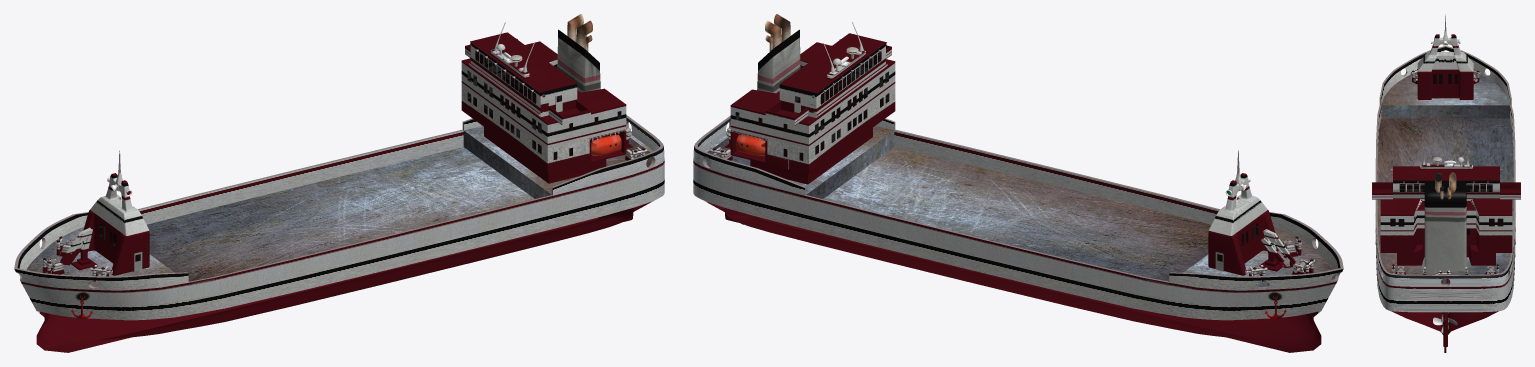
The model's file is cargo-ship.glb.
The picture shows the model from 3 angles, left to right: view 1: azimuth 30°, elevation 25°; view 2: azimuth 150°, elevation 25°; view 3: azimuth 270°, elevation 25°; orthographic projection. The views are drawn at different scales.
Parts seen in each view (by area): view 1: Object_19, Object_7, Object_22, Object_18, Object_16, Object_6, Object_23, Object_20, Object_30, Object_32, Object_8; view 2: Object_19, Object_7, Object_22, Object_18, Object_16, Object_6, Object_23, Object_30, Object_20, Object_32, Object_8; view 3: Object_19, Object_7, Object_22, Object_6, Object_16, Object_5, Object_23, Object_18, Object_30, Object_32, Object_17, Object_20 (+1 smaller).
Part boxes in pixels (left/top/right/bottom): Object_19: left=14, top=32, right=664, bottom=352; Object_7: left=26, top=124, right=653, bottom=287; Object_22: left=21, top=129, right=664, bottom=320; Object_18: left=56, top=71, right=626, bottom=281; Object_16: left=90, top=39, right=626, bottom=235; Object_6: left=557, top=37, right=600, bottom=92; Object_23: left=99, top=70, right=541, bottom=261; Object_20: left=85, top=49, right=545, bottom=275; Object_30: left=468, top=50, right=621, bottom=159; Object_32: left=567, top=14, right=592, bottom=51; Object_8: left=591, top=134, right=621, bottom=156; Object_19: left=693, top=33, right=1343, bottom=352; Object_7: left=705, top=124, right=1333, bottom=287; Object_22: left=693, top=129, right=1336, bottom=320; Object_18: left=730, top=72, right=1301, bottom=281; Object_16: left=730, top=39, right=1267, bottom=235; Object_6: left=757, top=37, right=800, bottom=93; Object_23: left=815, top=71, right=1258, bottom=261; Object_30: left=735, top=52, right=888, bottom=160; Object_20: left=826, top=50, right=1277, bottom=273; Object_32: left=765, top=14, right=790, bottom=51; Object_8: left=736, top=134, right=765, bottom=156; Object_19: left=1372, top=14, right=1520, bottom=352; Object_7: left=1377, top=73, right=1513, bottom=285; Object_22: left=1375, top=105, right=1515, bottom=312; Object_6: left=1424, top=207, right=1466, bottom=271; Object_16: left=1380, top=34, right=1512, bottom=215; Object_5: left=1424, top=181, right=1466, bottom=207; Object_23: left=1390, top=74, right=1503, bottom=234; Object_18: left=1380, top=69, right=1512, bottom=231; Object_30: left=1380, top=184, right=1492, bottom=239; Object_32: left=1435, top=172, right=1456, bottom=199; Object_17: left=1392, top=264, right=1498, bottom=283; Object_20: left=1392, top=73, right=1473, bottom=170.
Size of the model in its own units: 7.79 by 2.58 by 2.12.
Materials: 22 (19 with a texture image).
